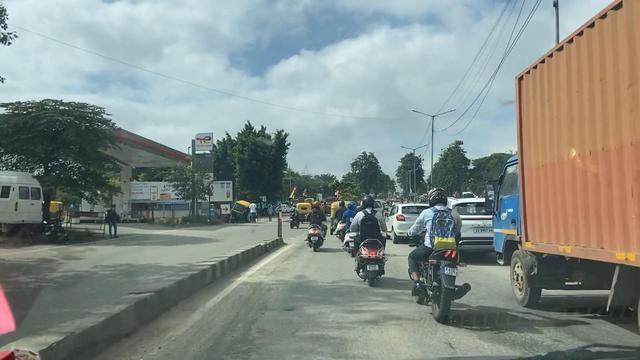LMV: (419, 193, 451, 314), (355, 197, 382, 285), (307, 198, 327, 248)
